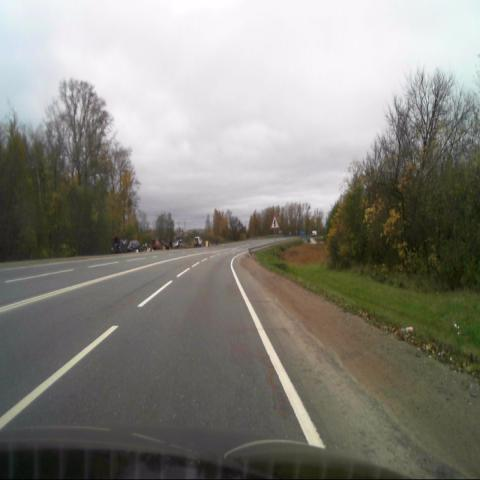2_3_3: (270, 214, 280, 229)
